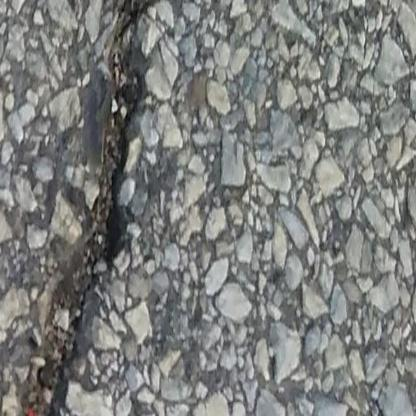Cracks: (11, 0, 183, 416)
